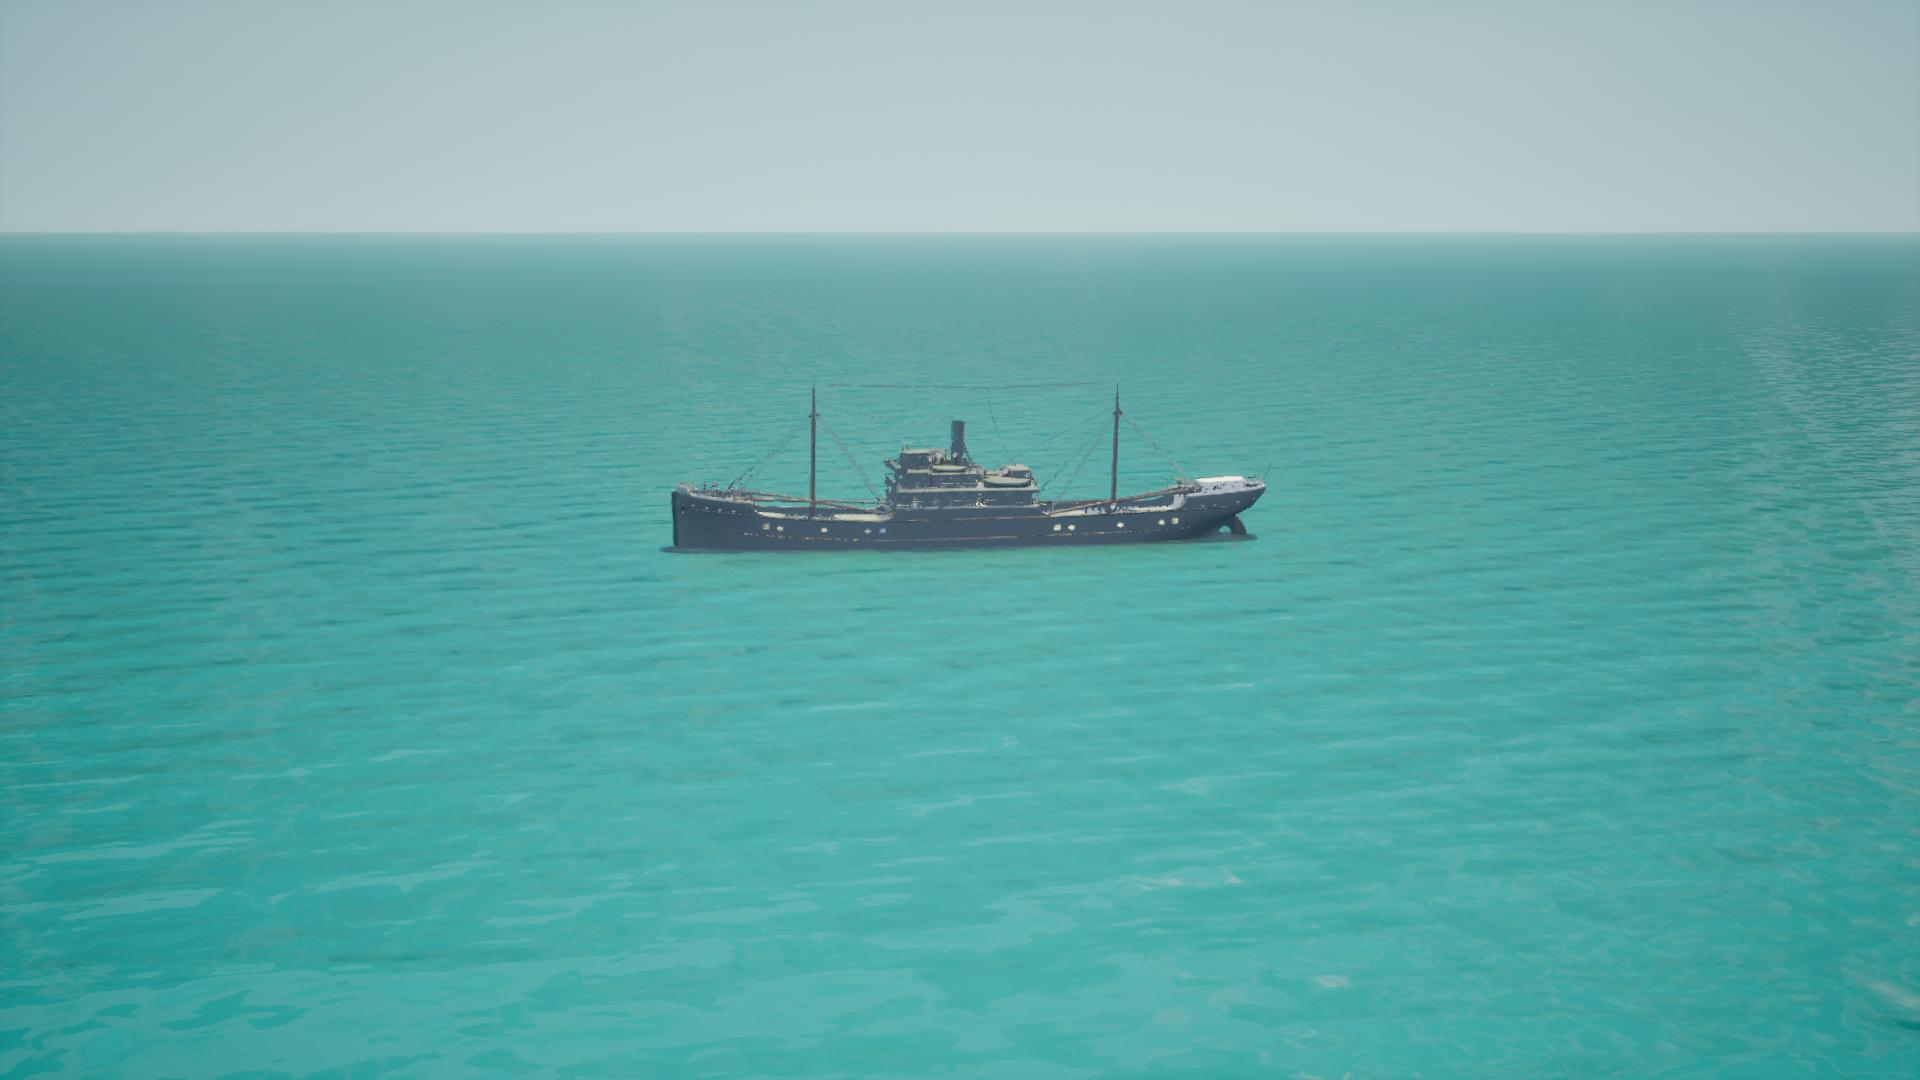Fishing Boat: (674, 386, 1267, 554)
